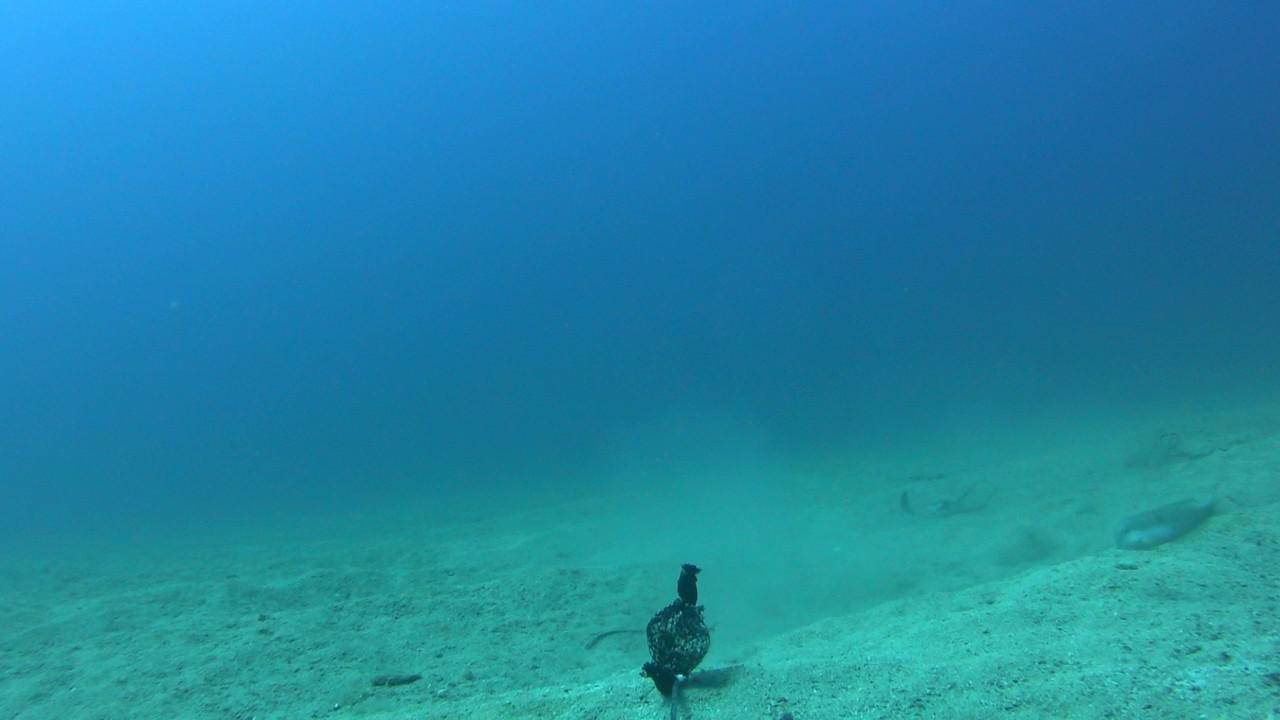myliobatis: (878, 459, 1010, 543)
raor: (1112, 486, 1224, 554)
